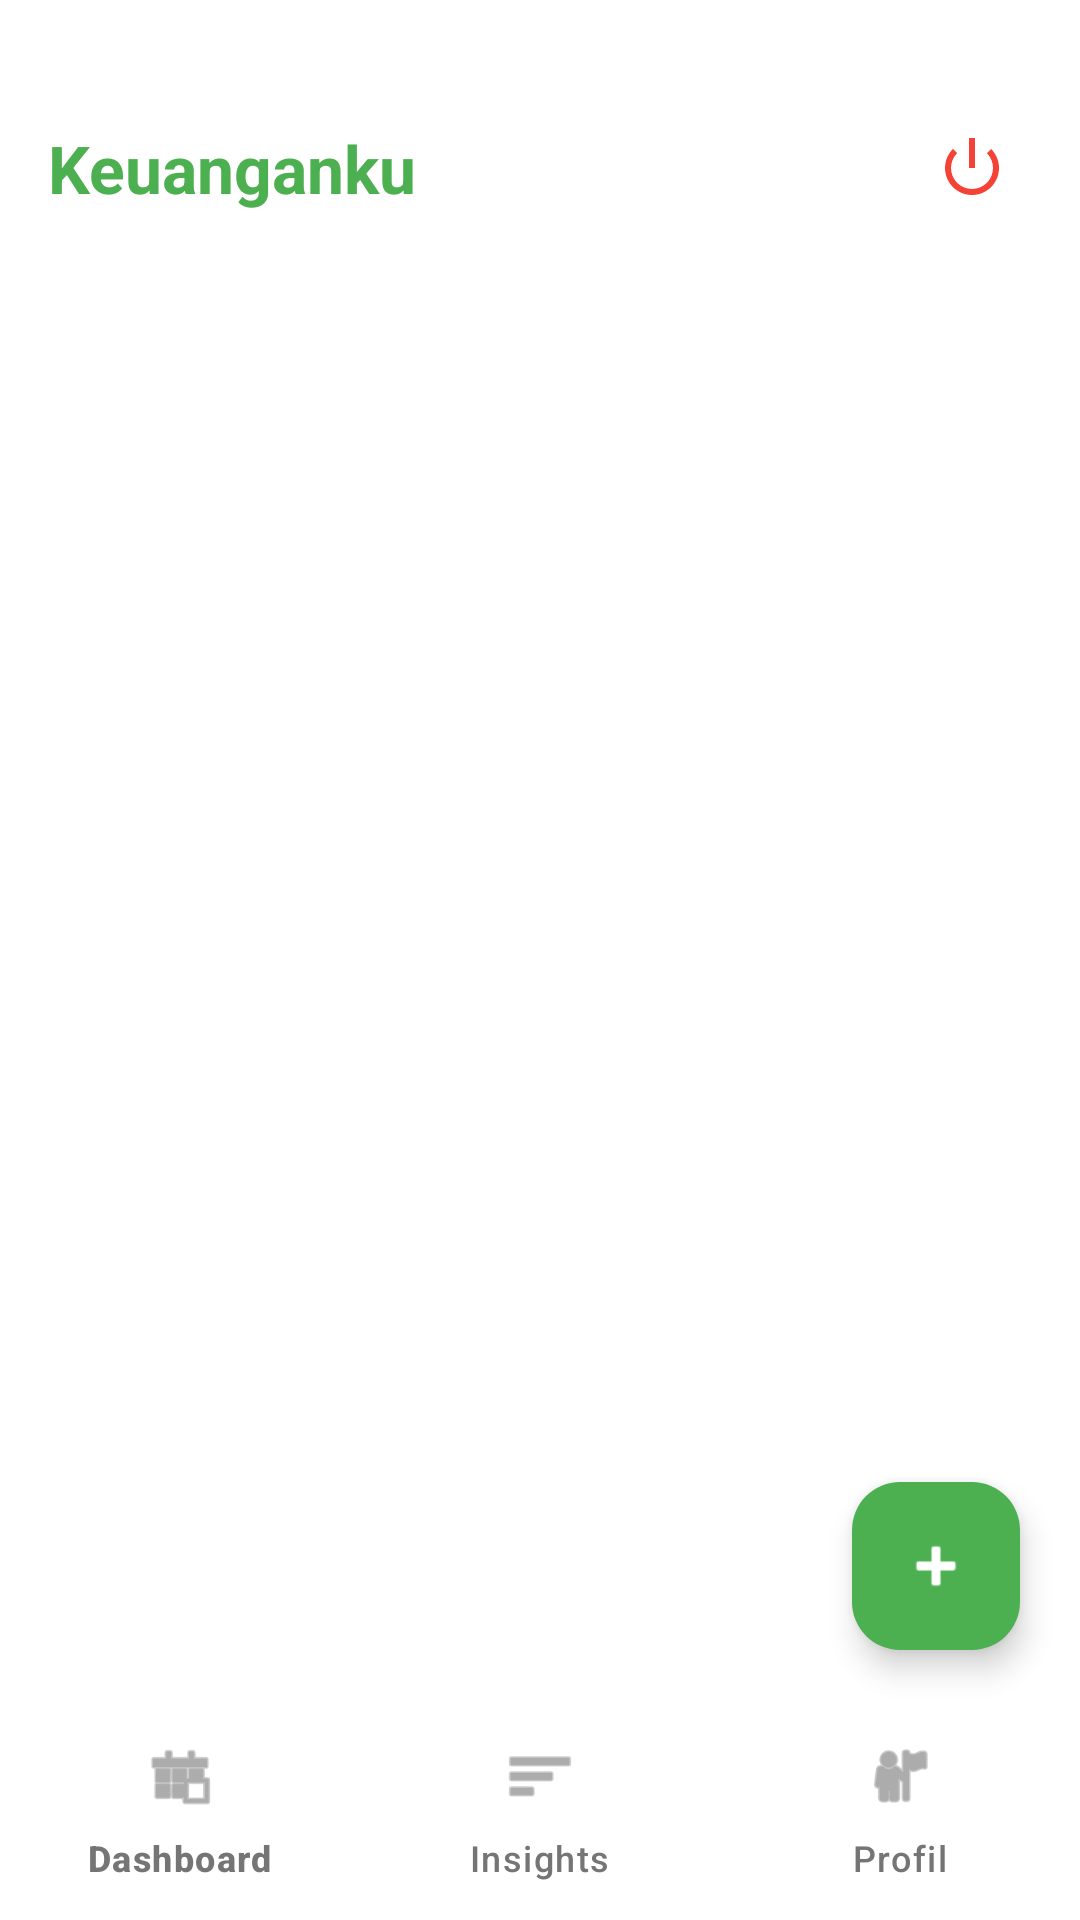

Icon bounding boxes for this 1080 × 1920 phone screenshot, format [x1=x1, y1=y1, x2=x2, y2=y2]:
add: [x1=852, y1=1482, x2=1020, y2=1650]
lock power off: [x1=945, y1=138, x2=999, y2=195]
